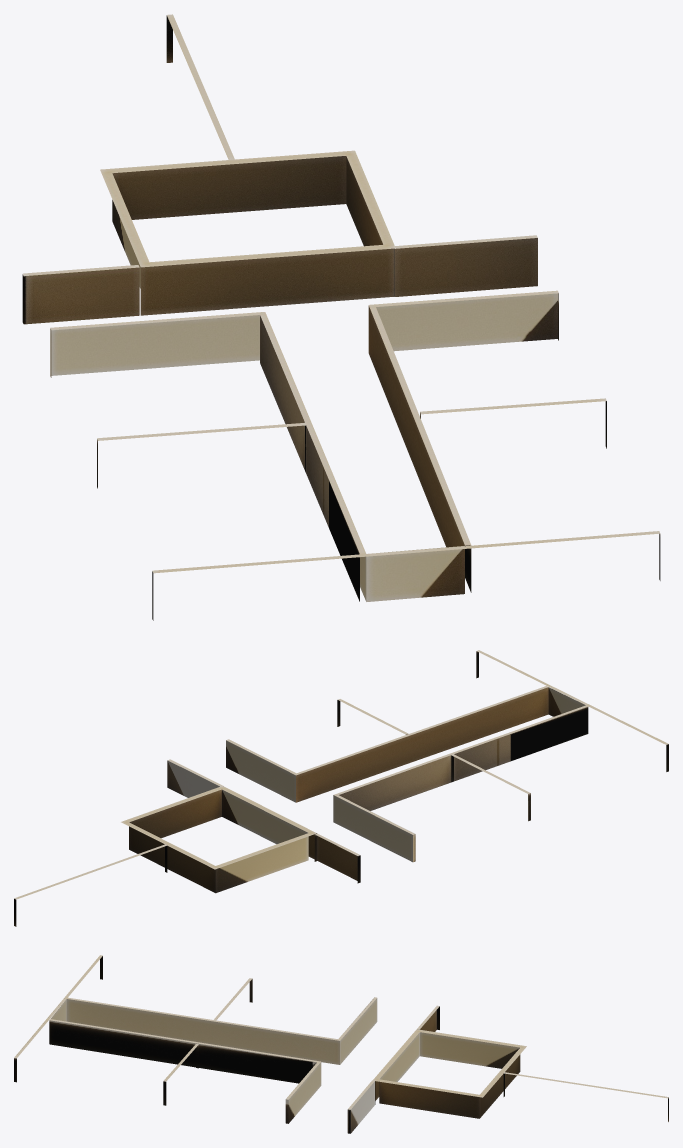
3 views of the same model, one above another, from view 1: azimuth 30°, elevation 25°; view 2: azimuth 150°, elevation 25°; view 3: azimuth 270°, elevation 25° (orthographic). The views are drawn at different scales.
Parts seen in each view (by area): view 1: Line079; view 2: Line079; view 3: Line079.
Boxes of the visible parts, box(x1,y1,x2,y2) form: Line079: box(22, 14, 660, 620); Line079: box(14, 650, 668, 926); Line079: box(14, 955, 668, 1133).
Bounding box in the file's own units: 20.49 × 1.49 × 36.68.
1 material, 1 textured.
